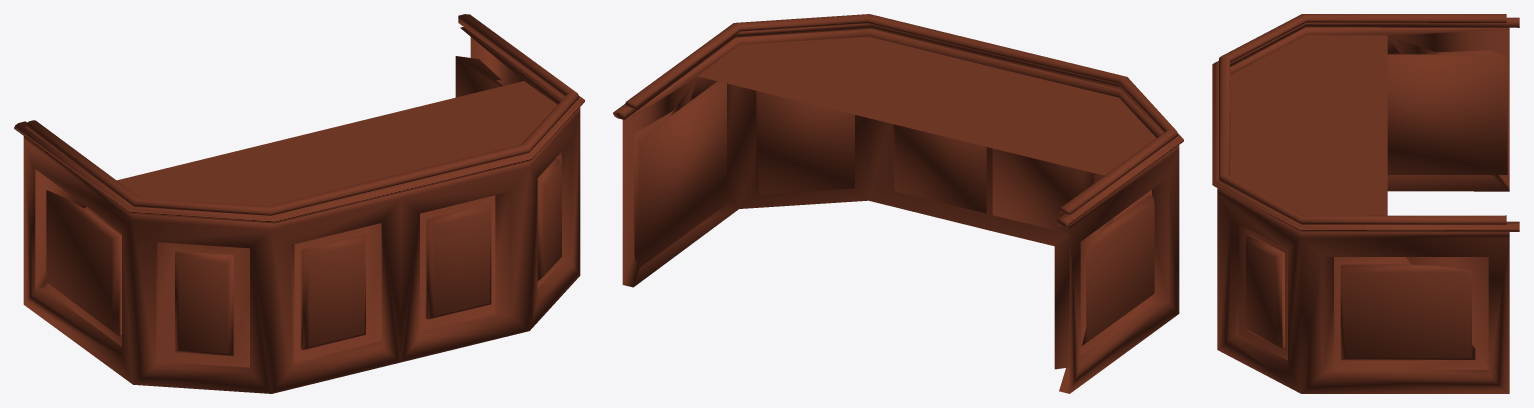
The model's file is hakim masa önü 0.2.fbx.
3 renders of one model, left to right at view 1: azimuth 30°, elevation 25°; view 2: azimuth 150°, elevation 25°; view 3: azimuth 270°, elevation 25°, orthographic. The views are drawn at different scales.
Visible parts, largest first — view 1: Plane.001; view 2: Plane.001; view 3: Plane.001.
Boxes of the visible parts, x1,y1,x2,y2 form: Plane.001: (14,14,584,393); Plane.001: (613,14,1183,393); Plane.001: (1212,14,1519,393).
Size of the model in its own units: 778 by 299 by 478.
